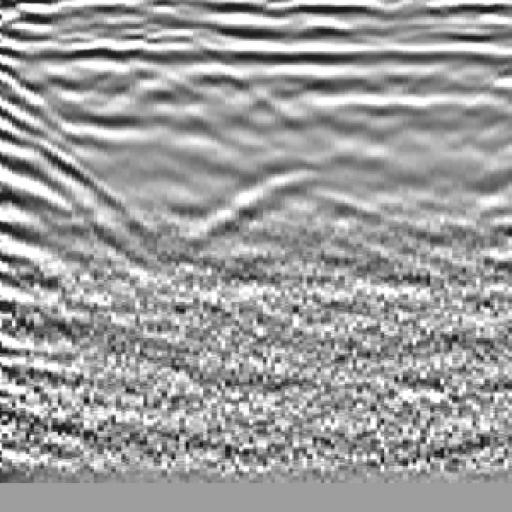metalic: (188, 39, 386, 284)
nonmetalic: (1, 38, 124, 290)
